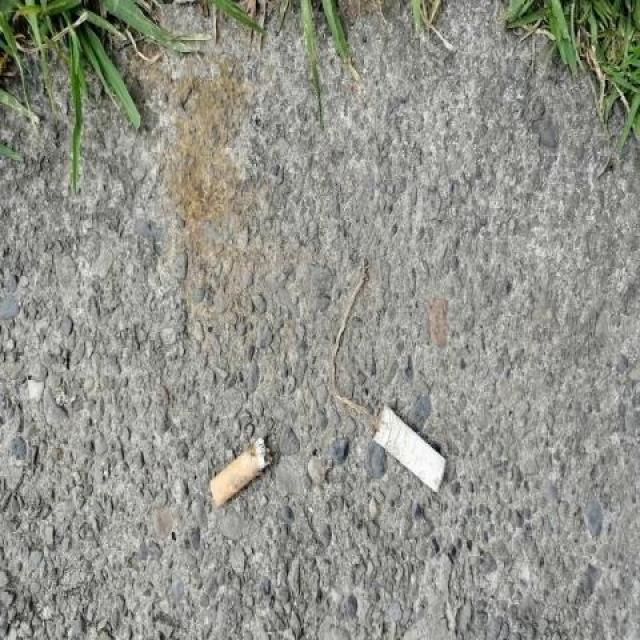non-organic waste: (370, 400, 450, 504), (207, 433, 276, 510)
